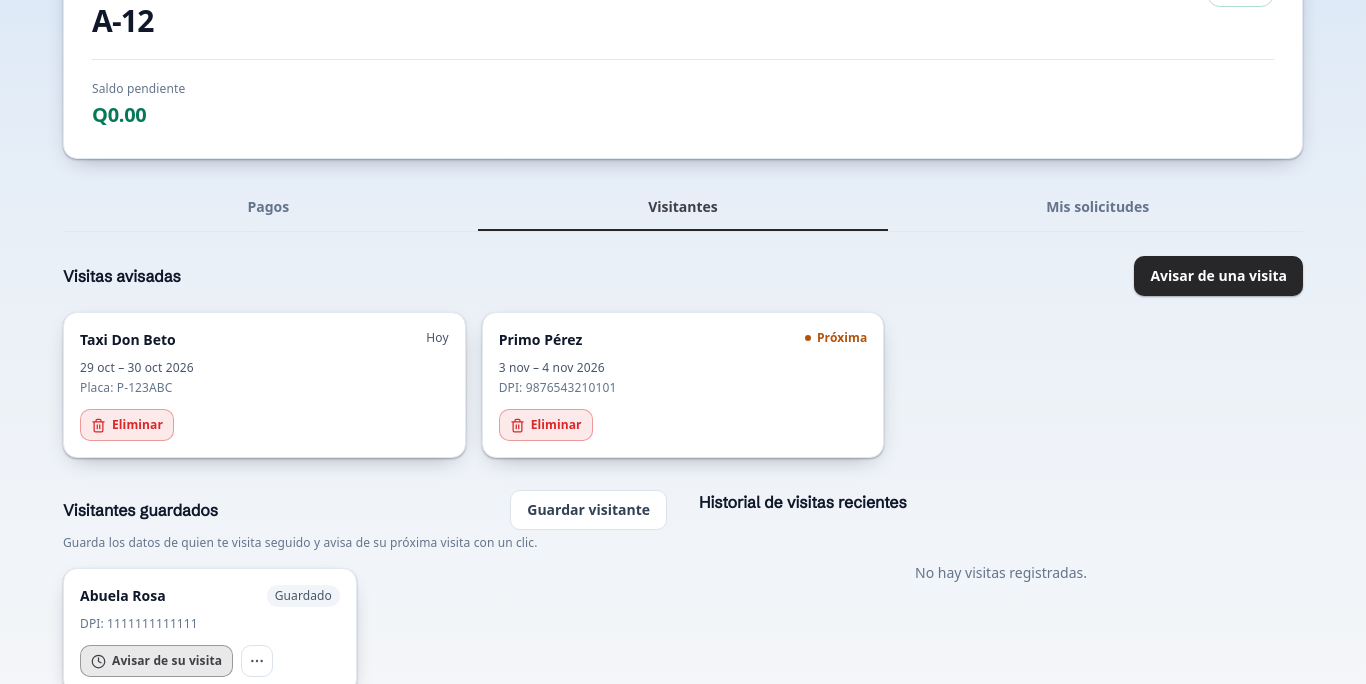
Scenario: ResidentePage › Invitados › guardar un visitante no manda fecha_fin: queda en la libreta, no como aviso
The image size is (1366, 684).
Click the button "Guardar visitante".
click(589, 510)  # box [510,490,667,530]
(page scrolled)
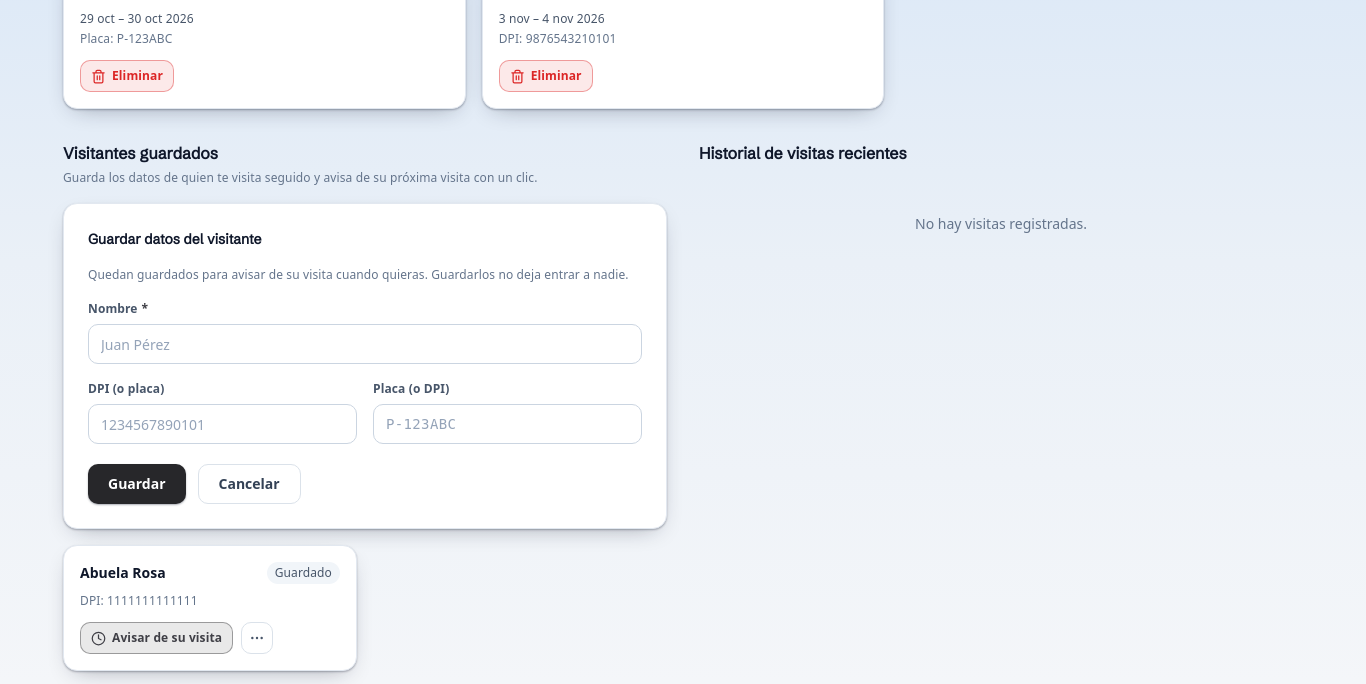
Expected: the text "no deja entrar a nadie" is shown, [88,266,629,283]
Type "Doña Lupe" into the field labelled "Nombre*".
click(365, 344); type("Doña Lupe")  # box [88,324,642,364]
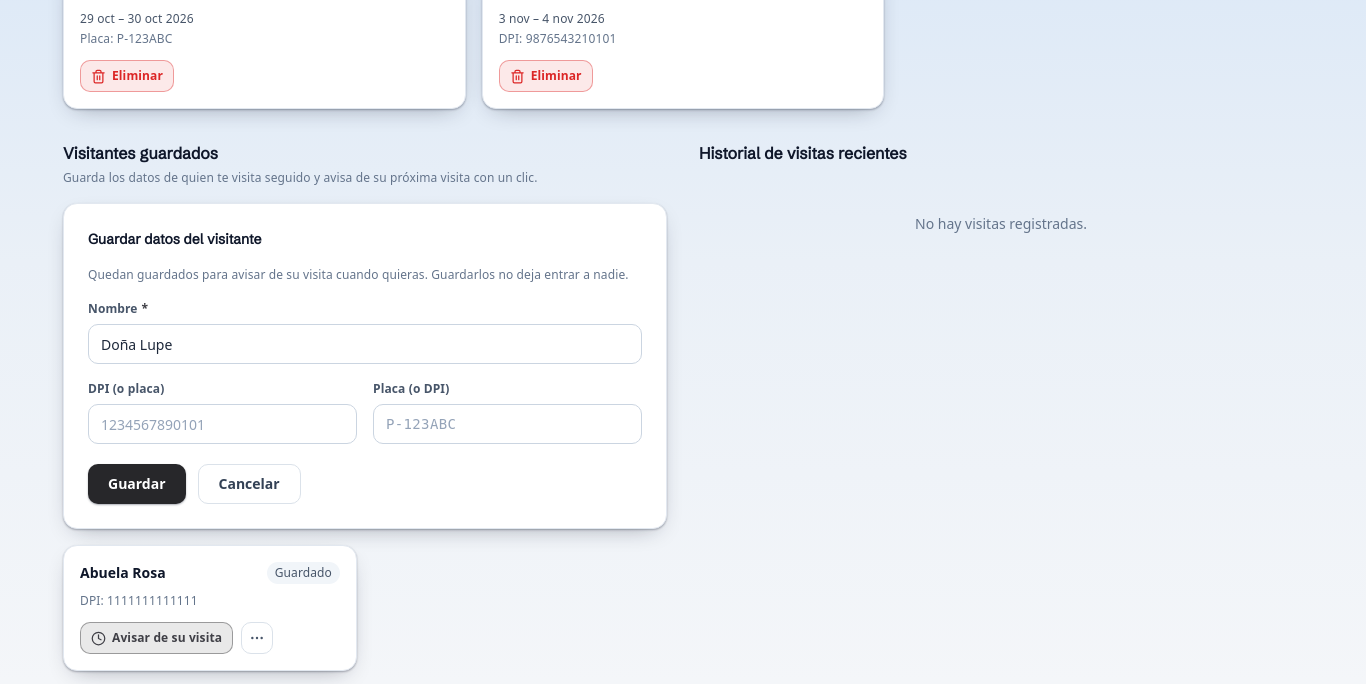
Type "2222222222222" into the field labelled "DPI (o placa)".
click(222, 424); type("2222222222222")  # box [88,404,357,444]
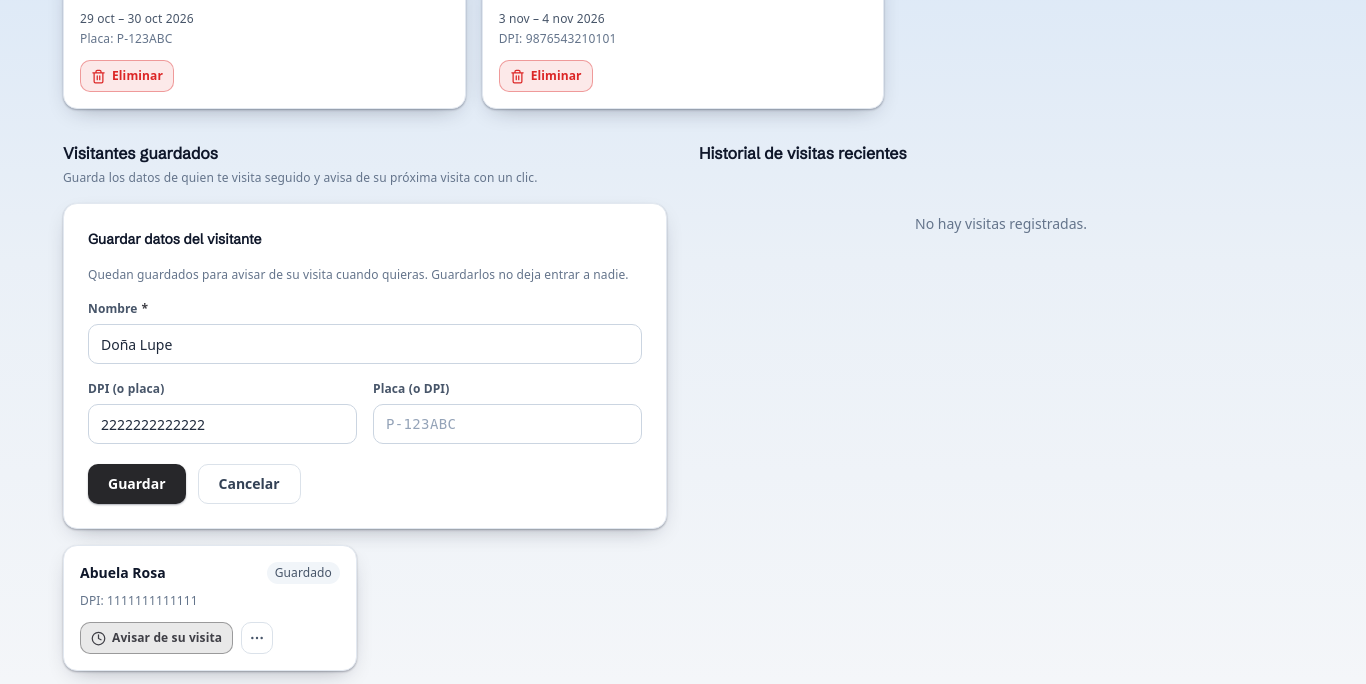
Click the button "Guardar".
click(137, 484)  # box [88,464,186,504]
(page scrolled)
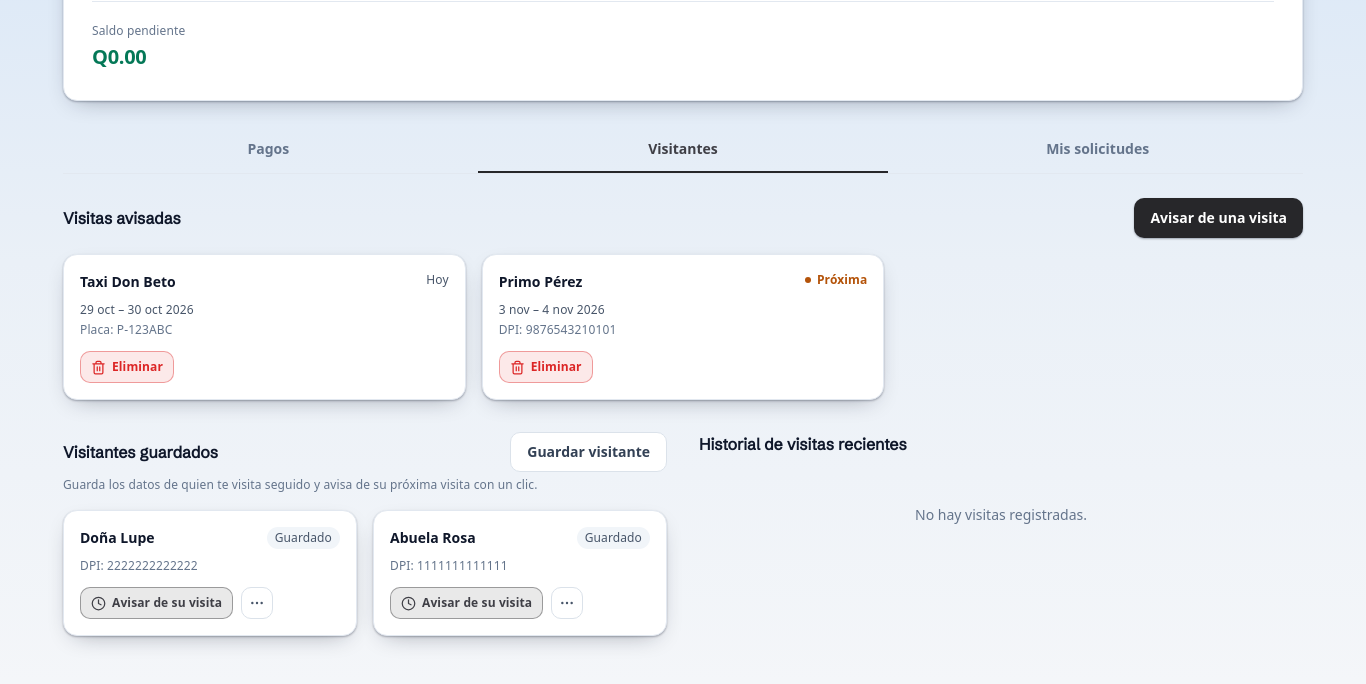
Expected: the text "Doña Lupe" is shown, [80,527,155,549]
